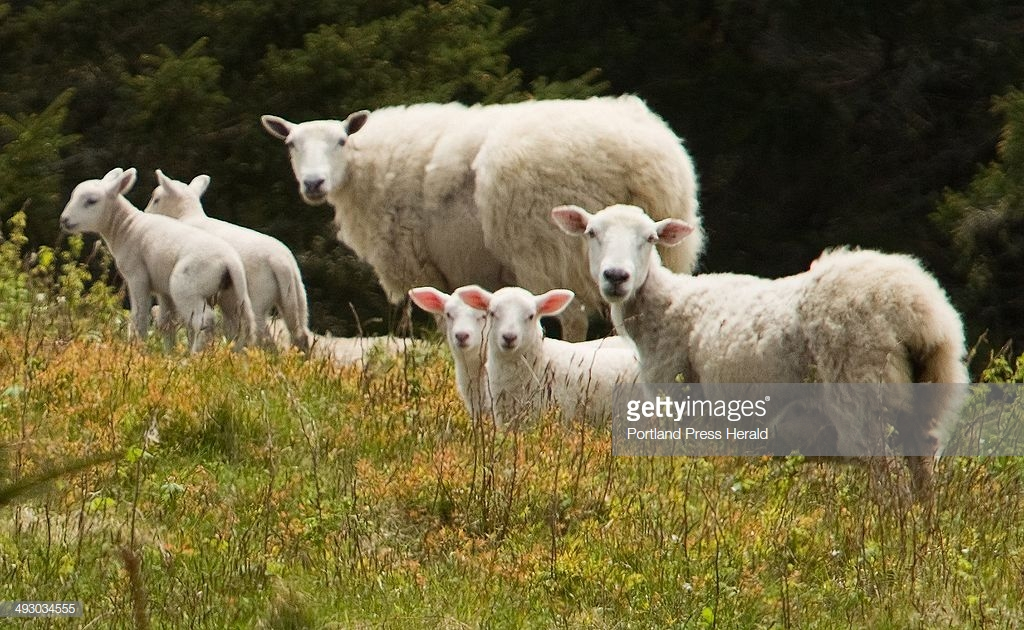sheep: (561, 217, 978, 517), (275, 97, 700, 320), (488, 285, 678, 471), (140, 172, 334, 341), (55, 182, 227, 350), (437, 275, 507, 418)
